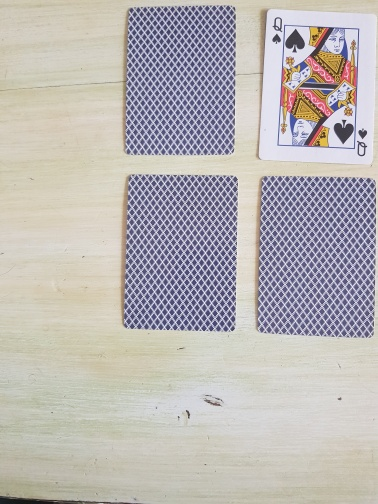queen: (257, 7, 378, 166)
